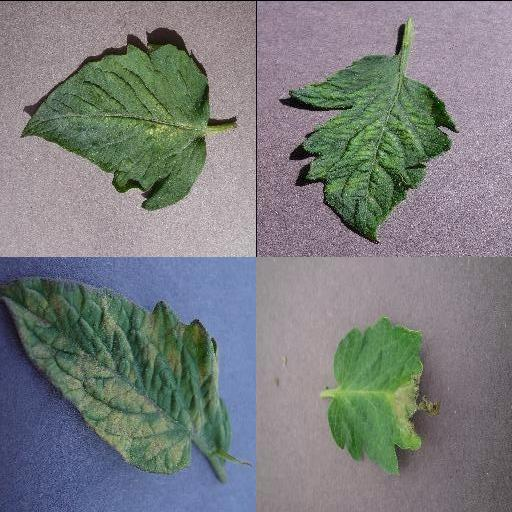Late Blight: (327, 313, 443, 475)
Leaf Mold: (0, 276, 228, 474)
Mosaic Virus: (288, 53, 456, 243)
Spider Mites: (19, 43, 209, 209)
